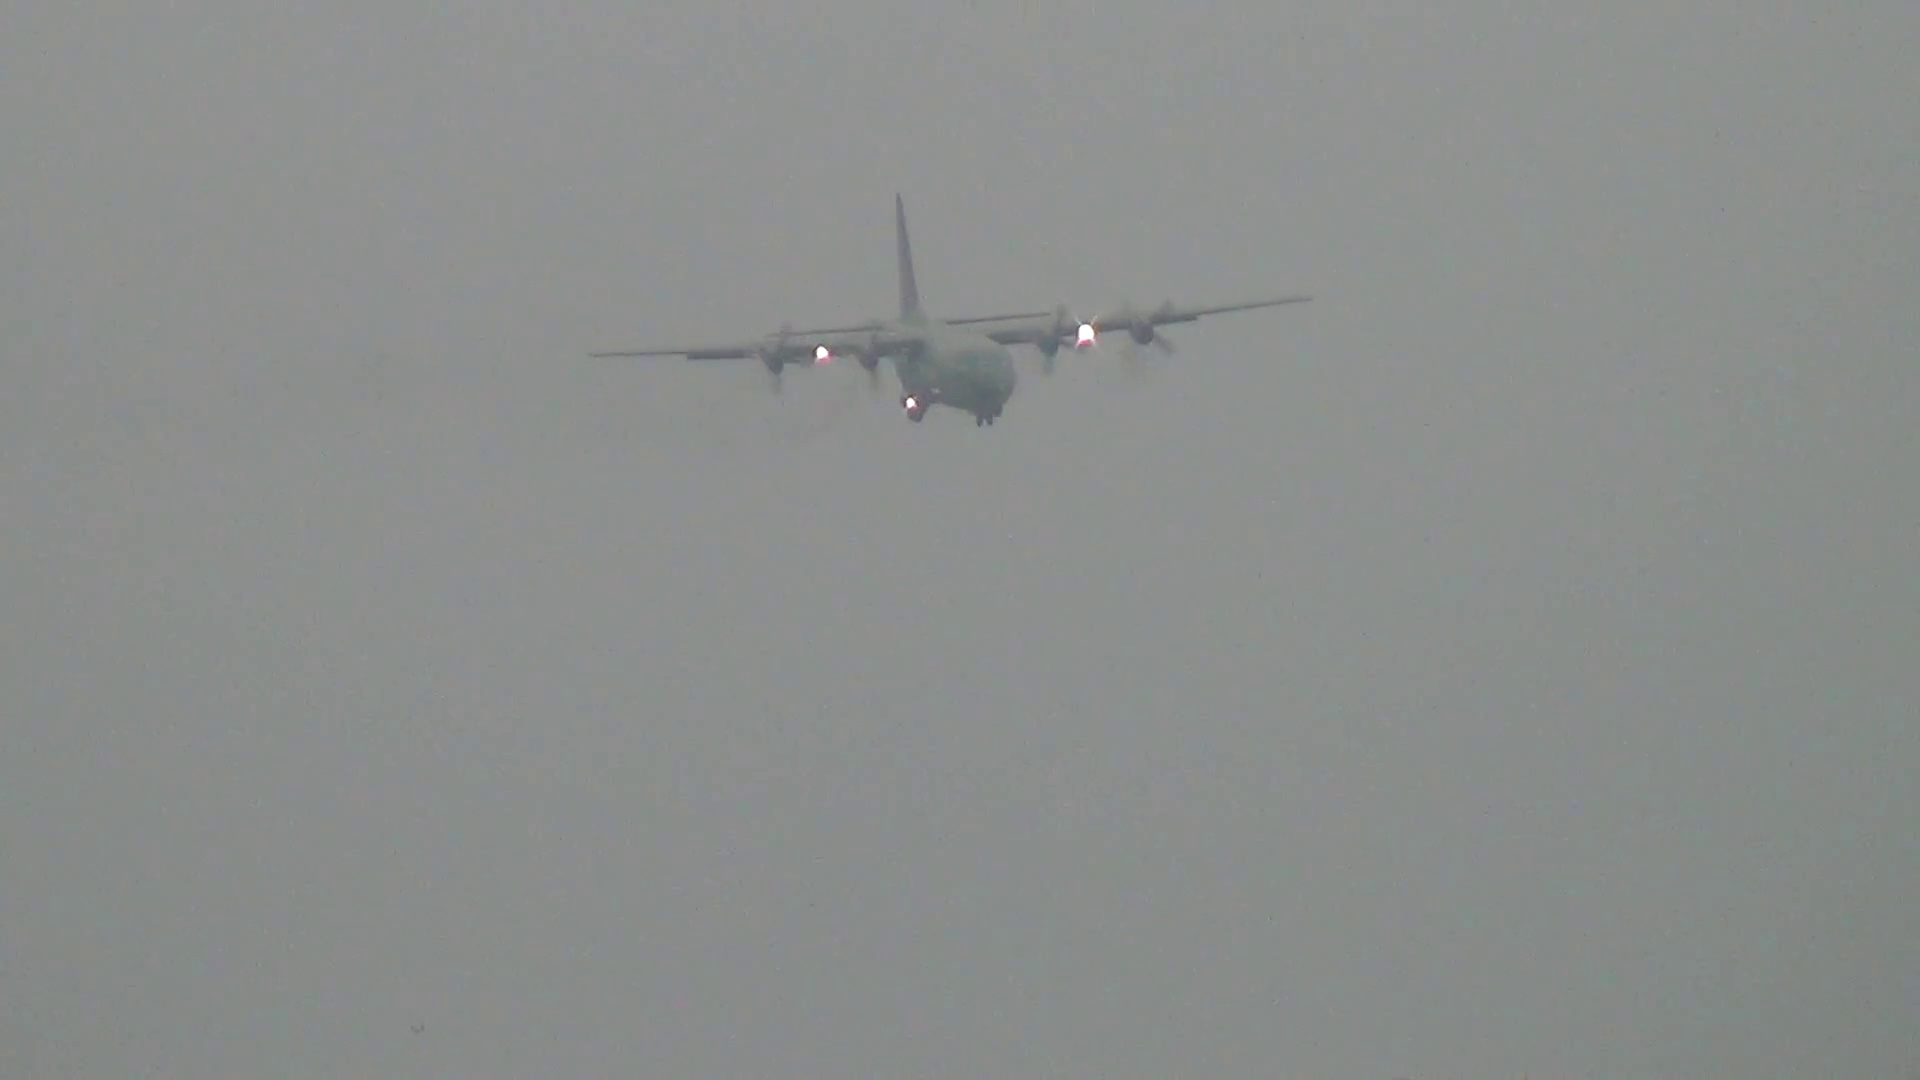Airplane: (596, 198, 1321, 425)
